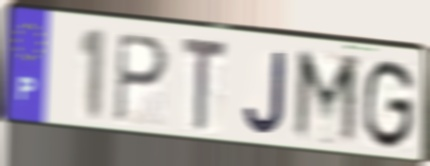1: (76, 25, 108, 126)
G: (360, 57, 418, 153)
J: (242, 49, 288, 138)
M: (290, 46, 362, 151)
P: (113, 30, 171, 126)
T: (180, 35, 230, 137)
